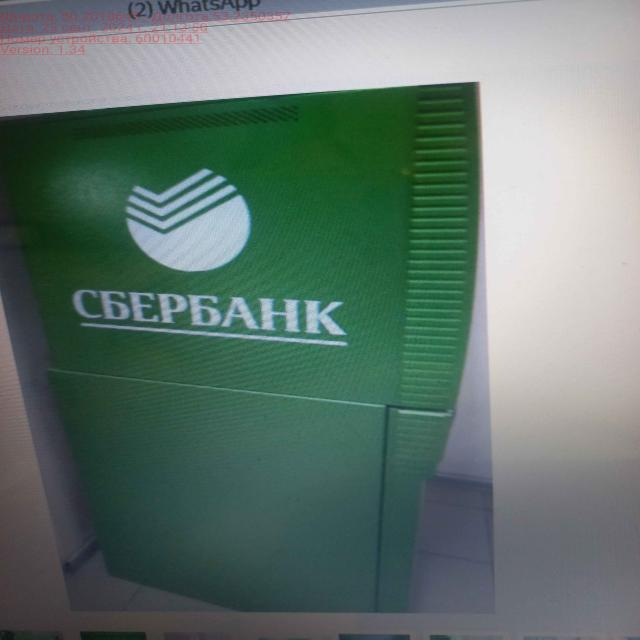bank: (0, 82, 488, 617)
